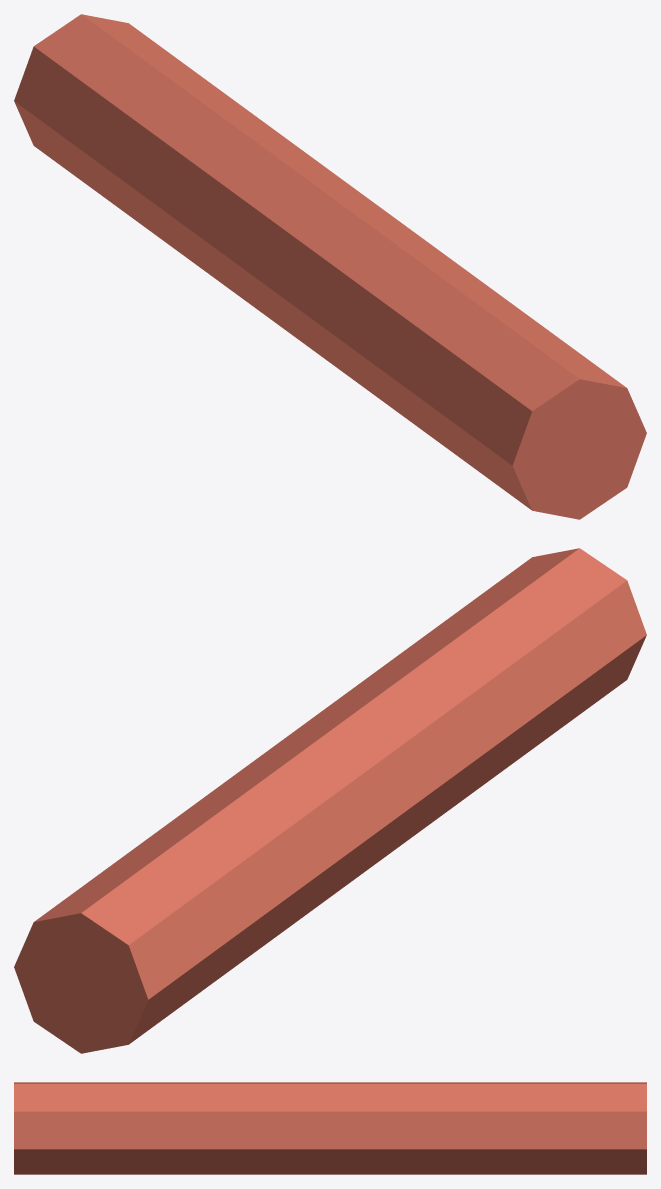
The model's file is TE320559_splice_3_OD_UNVERIFIED.glb.
3 views of the same model, one above another, from view 1: azimuth 30°, elevation 25°; view 2: azimuth 150°, elevation 25°; view 3: azimuth 270°, elevation 25° (orthographic). The views are drawn at different scales.
Visible parts, largest first — view 1: TE320559_splice_3_OD_UNVERIFIED; view 2: TE320559_splice_3_OD_UNVERIFIED; view 3: TE320559_splice_3_OD_UNVERIFIED.
Part boxes in pixels (x1,y1,x2,y2): TE320559_splice_3_OD_UNVERIFIED: (14, 14, 646, 519); TE320559_splice_3_OD_UNVERIFIED: (14, 548, 646, 1053); TE320559_splice_3_OD_UNVERIFIED: (14, 1082, 646, 1174).
Bounding box in the file's own units: 5 × 5 × 32.13.
